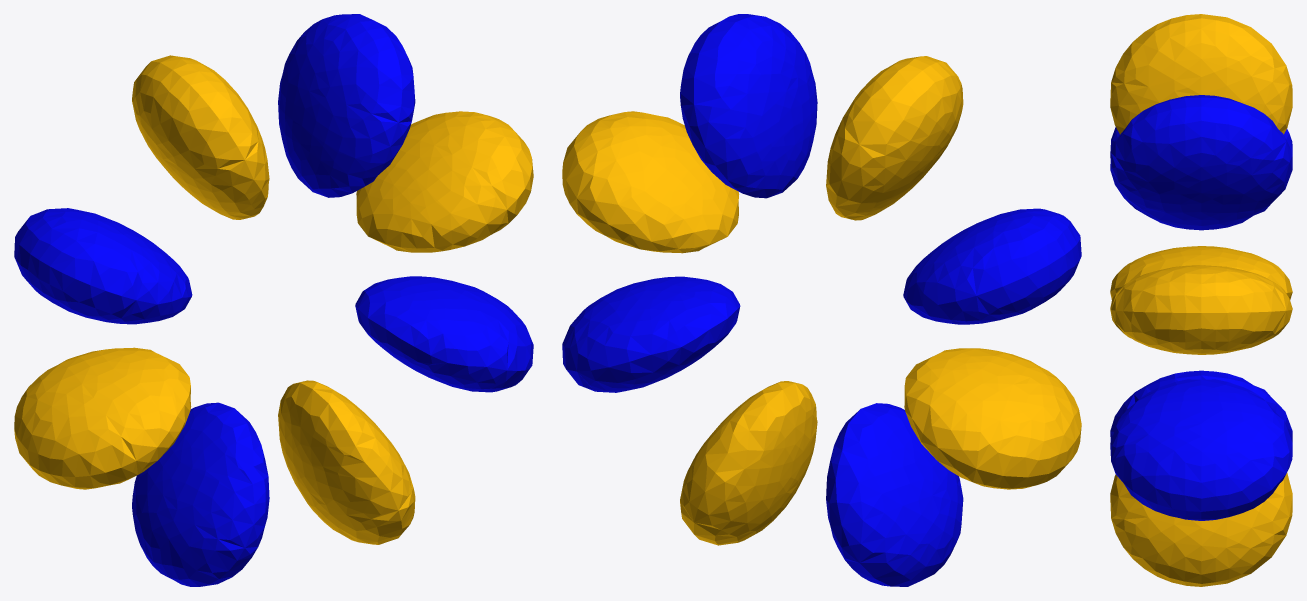
3 renders of one model, left to right at view 1: azimuth 30°, elevation 25°; view 2: azimuth 150°, elevation 25°; view 3: azimuth 270°, elevation 25°, orthographic. The views are drawn at different scales.
Bounding box in the file's own units: 30.61 × 30.61 × 10.45.
